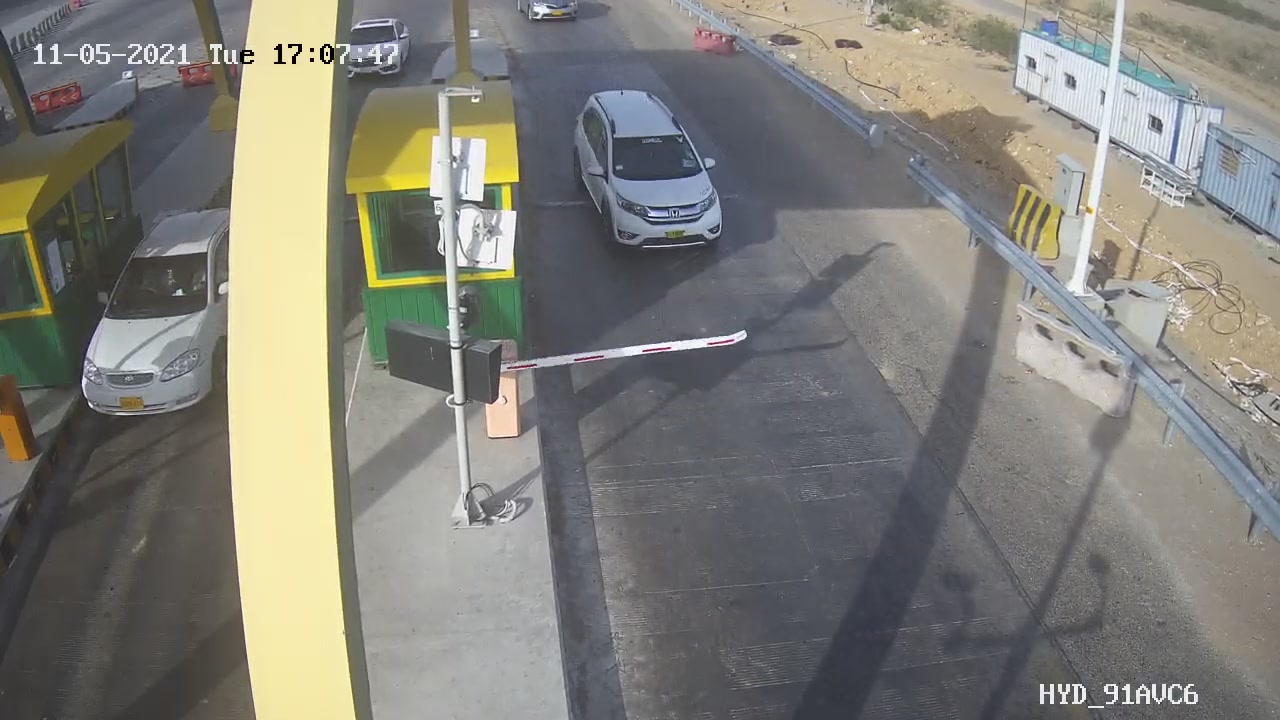F1: (553, 72, 740, 277)
